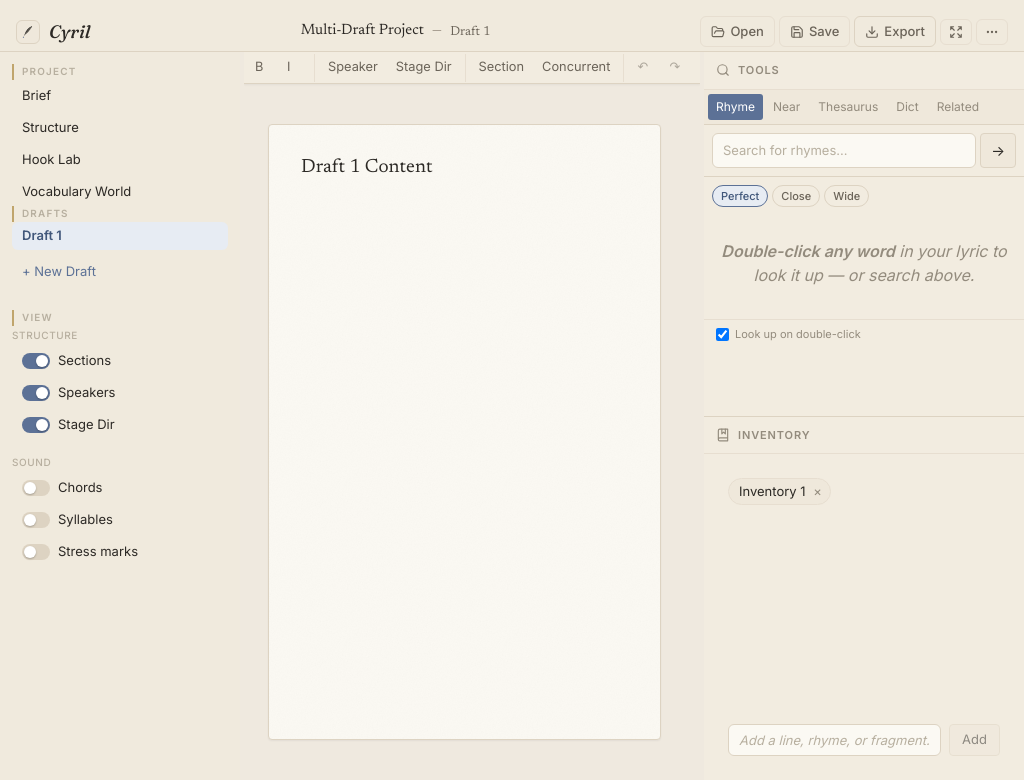
Test: Workspaces and Drafts Integration › T-3.03: Switching workspaces preserves independent content
Click Structure workspace
What coordinates should you click on to do the following:
click the button with test id "workspace-nav-structure"
I would click on:
 (50, 127)
Its box is [22,119,79,135].
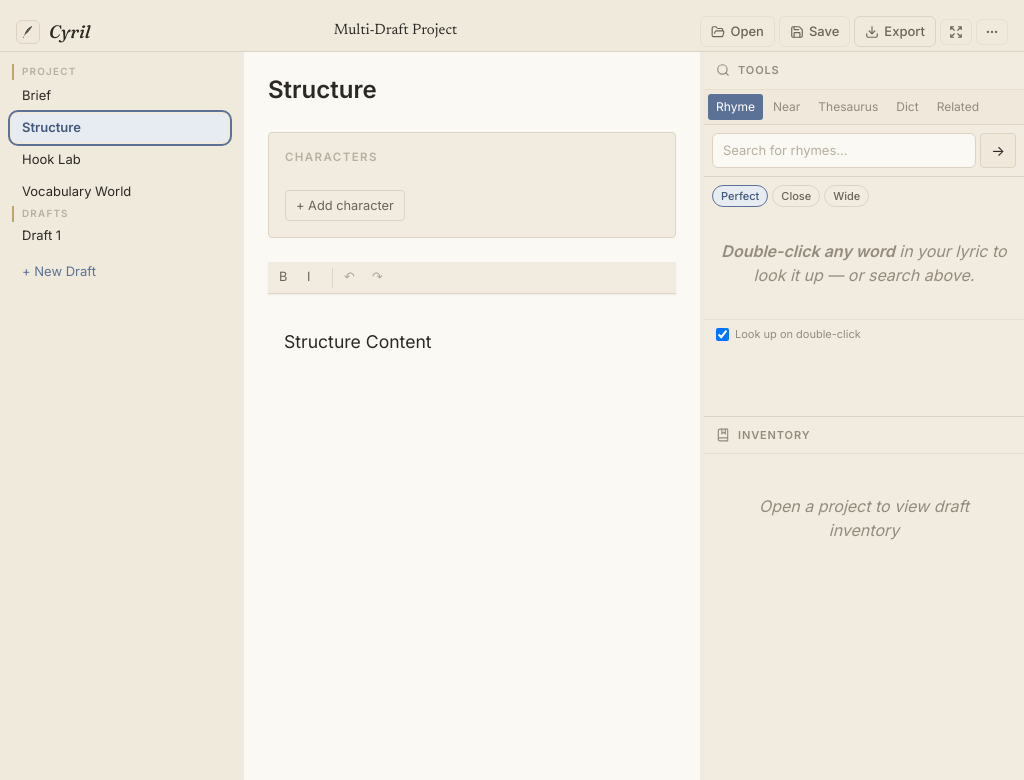
Expected: the text "Brief Content" is not shown
Now the text box "Structure Content" is shown, box [284,331,432,352]
Click Brief workspace
What coordinates should you click on to do the following:
click the button "Brief"
I would click on:
 (37, 95)
Its box is [22,87,51,103].
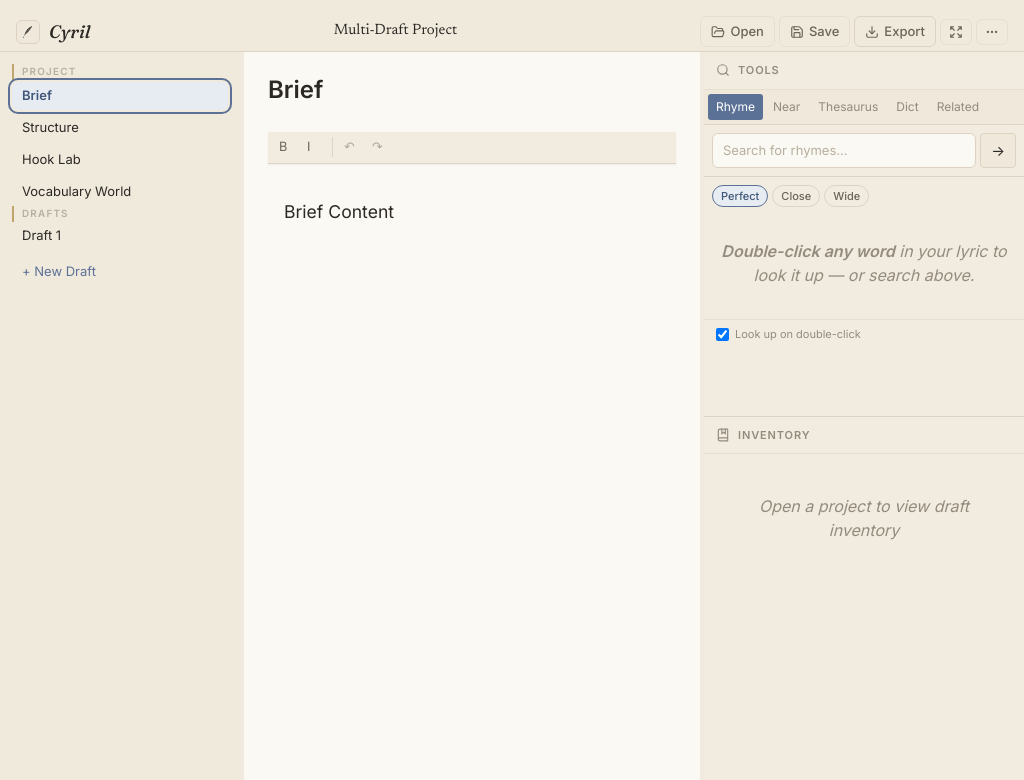
Now the text box "Brief Content" is shown, box [284,200,394,222]
Now the field "Structure Content" is gone
